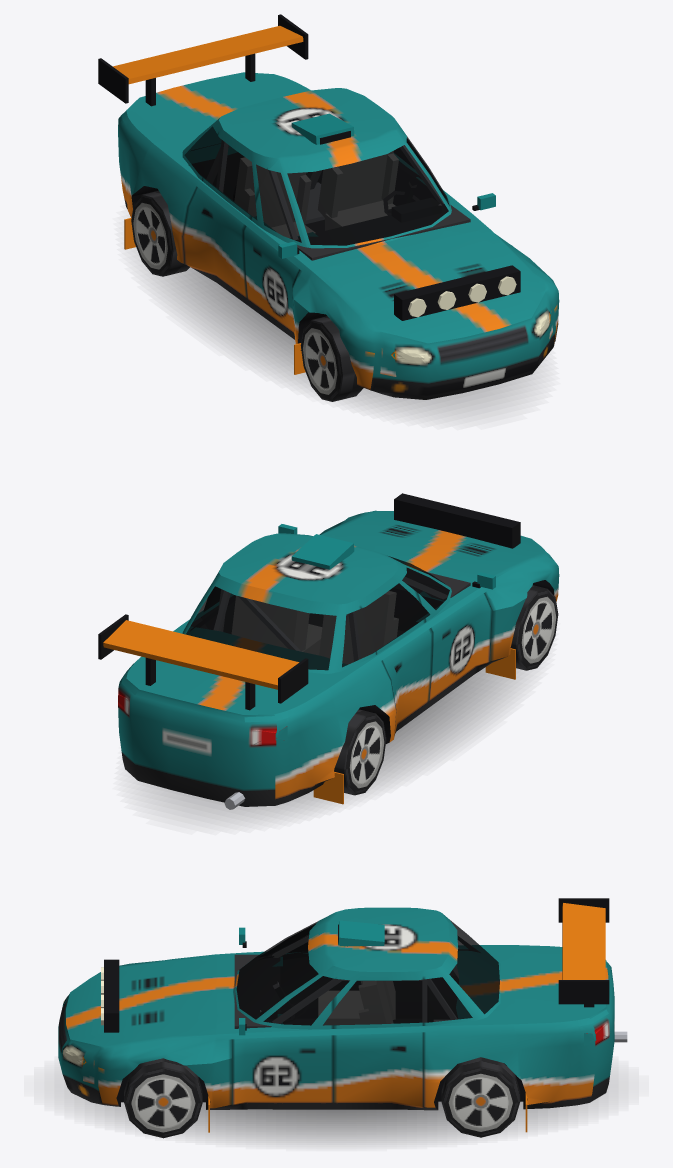
File: minuano.glb
3 views of the same model, one above another, from view 1: azimuth 30°, elevation 25°; view 2: azimuth 150°, elevation 25°; view 3: azimuth 270°, elevation 25° (orthographic). The views are drawn at different scales.
Visible parts, largest first — view 1: Carroceria, Capo_malha, Interior, Tampa_malha, Sombra, Porta_TD_malha, Porta_D_malha, Roda_DD, Roda_TD, Porta_E_malha; view 2: Carroceria, Tampa_malha, Capo_malha, Interior, Sombra, Porta_TD_malha, Porta_D_malha, Roda_TD, Roda_DD; view 3: Carroceria, Porta_TE_malha, Interior, Capo_malha, Sombra, Porta_E_malha, Tampa_malha, Roda_TE, Roda_DE, Porta_D_malha.
Part boxes in pixels (x1,y1,x2,y2): Carroceria: [98, 14, 559, 399]; Capo_malha: [318, 229, 545, 342]; Interior: [192, 140, 470, 260]; Tampa_malha: [113, 25, 307, 141]; Sombra: [150, 267, 530, 414]; Porta_TD_malha: [183, 126, 279, 296]; Porta_D_malha: [243, 160, 306, 337]; Roda_DD: [300, 316, 363, 401]; Roda_TD: [131, 190, 189, 276]; Porta_E_malha: [397, 131, 495, 211]; Carroceria: [98, 510, 559, 809]; Tampa_malha: [103, 620, 322, 722]; Capo_malha: [326, 493, 545, 578]; Interior: [191, 568, 470, 663]; Sombra: [142, 668, 524, 819]; Porta_TD_malha: [357, 562, 432, 736]; Porta_D_malha: [397, 562, 495, 699]; Roda_TD: [334, 709, 386, 795]; Roda_DD: [510, 585, 558, 670]; Carroceria: [58, 898, 627, 1132]; Porta_TE_malha: [333, 966, 423, 1107]; Interior: [234, 935, 479, 1028]; Capo_malha: [71, 956, 216, 1046]; Sombra: [64, 1081, 608, 1142]; Porta_E_malha: [232, 966, 333, 1104]; Tampa_malha: [515, 903, 608, 1026]; Roda_TE: [441, 1057, 520, 1137]; Roda_DE: [124, 1058, 202, 1138]; Porta_D_malha: [239, 925, 313, 956].
Size of the model in its own units: 2.52 by 1.39 by 5.08.
14 materials, 5 textured.
